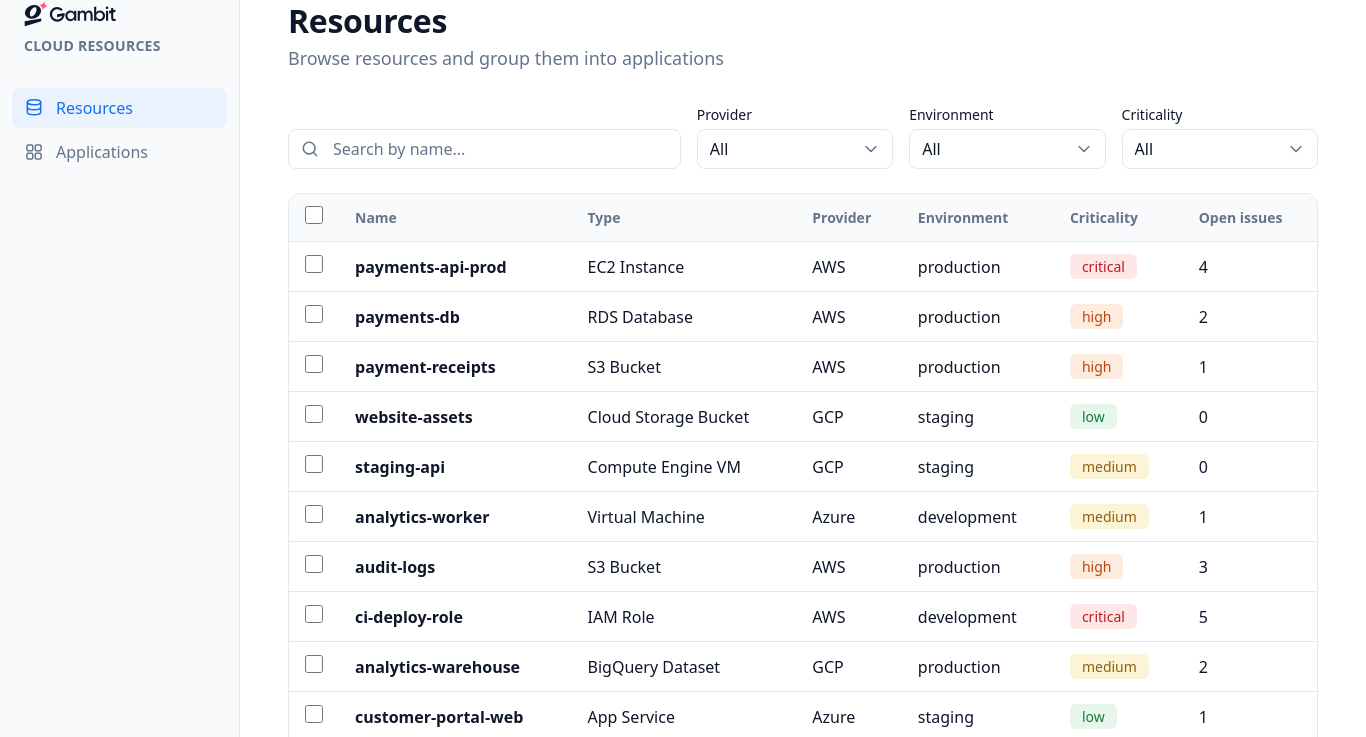
Scenario: ApplicationsPage › shows exactly the member resources of a created application
The width and height of the screenshot is (1366, 737).
Click the checkbox named "Select payments-api-prod" at (314, 264), box x1=305 y1=254 x2=323 y2=272
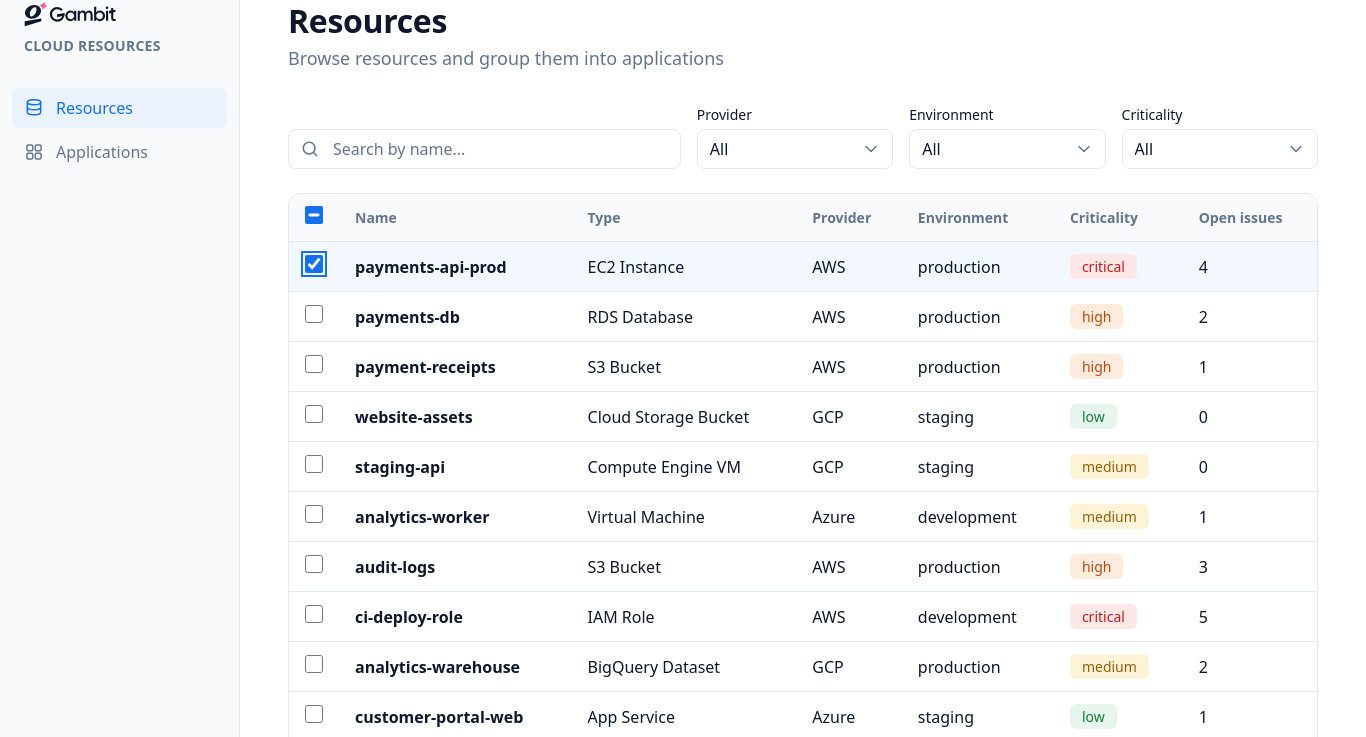
Click the checkbox named "Select payments-db" at (314, 314), box x1=305 y1=304 x2=323 y2=322
(page scrolled)
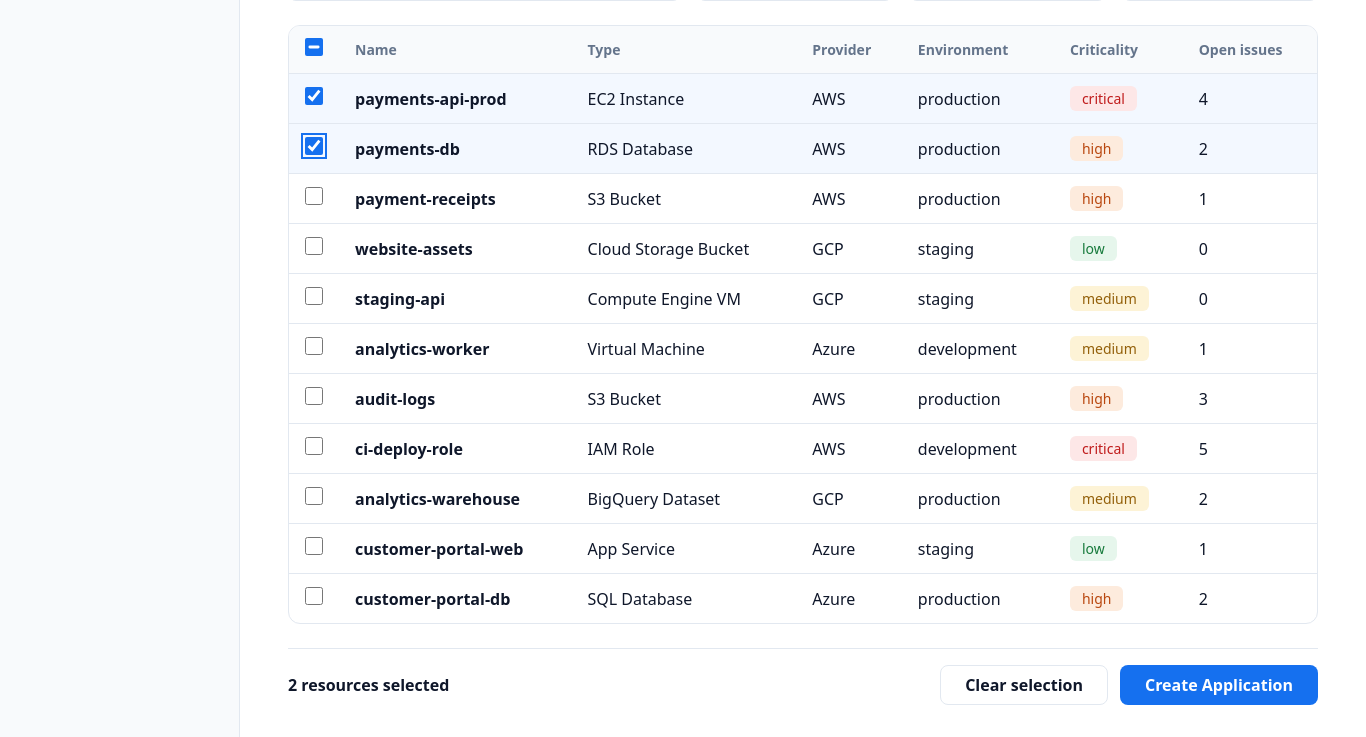
Click the button "Create Application" at (1219, 685), box x1=1120 y1=665 x2=1318 y2=705
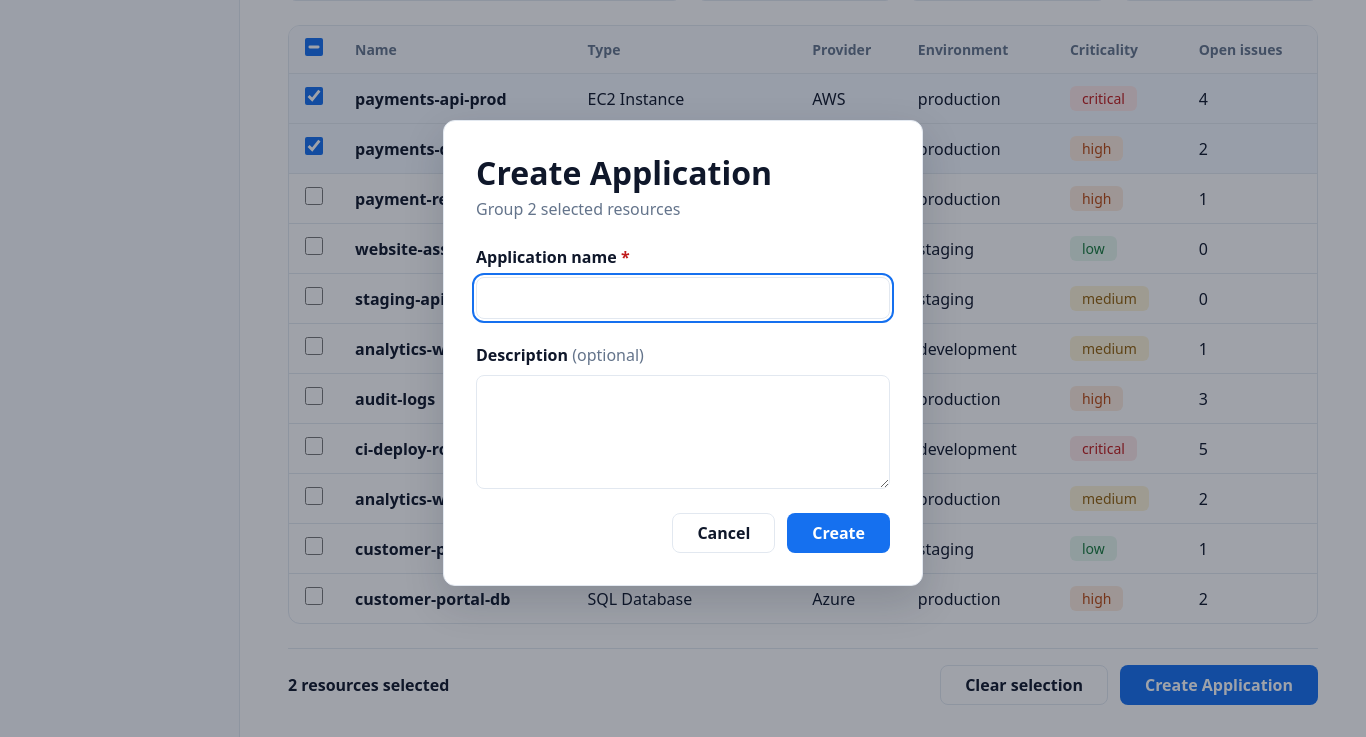
Type "Payments API" into the field labelled "Application name" at (683, 298), box x1=476 y1=277 x2=890 y2=319
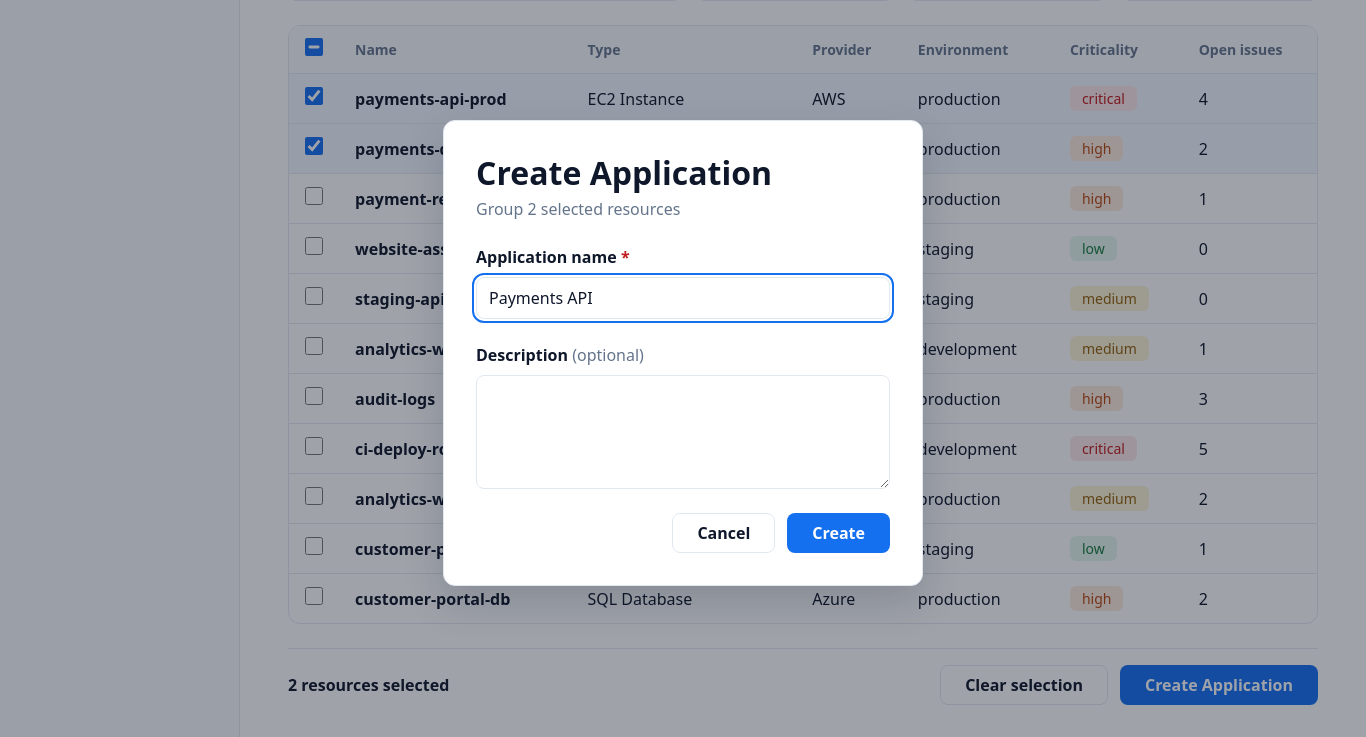
Click the button "Create" at (839, 533), box x1=787 y1=513 x2=890 y2=553
(page scrolled)
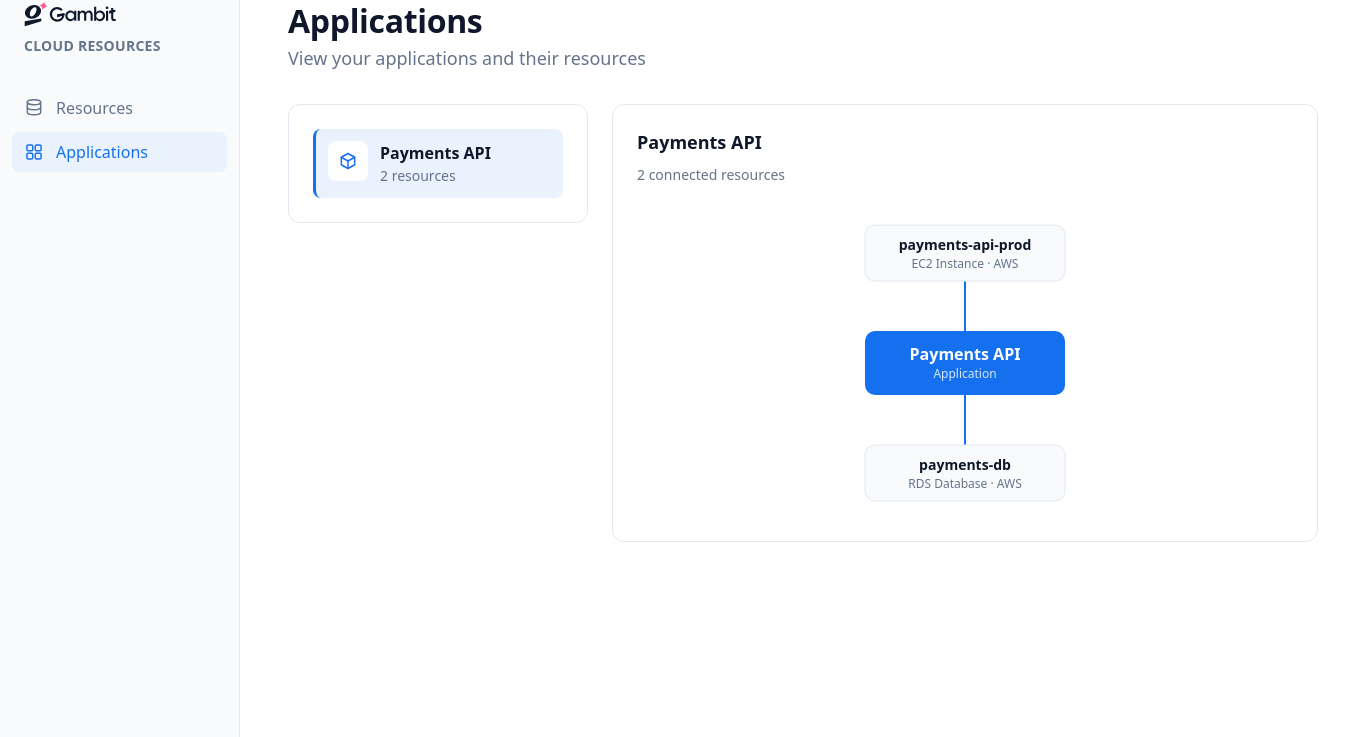
Expected: the heading "Payments API" is shown, x1=637 y1=130 x2=762 y2=154
